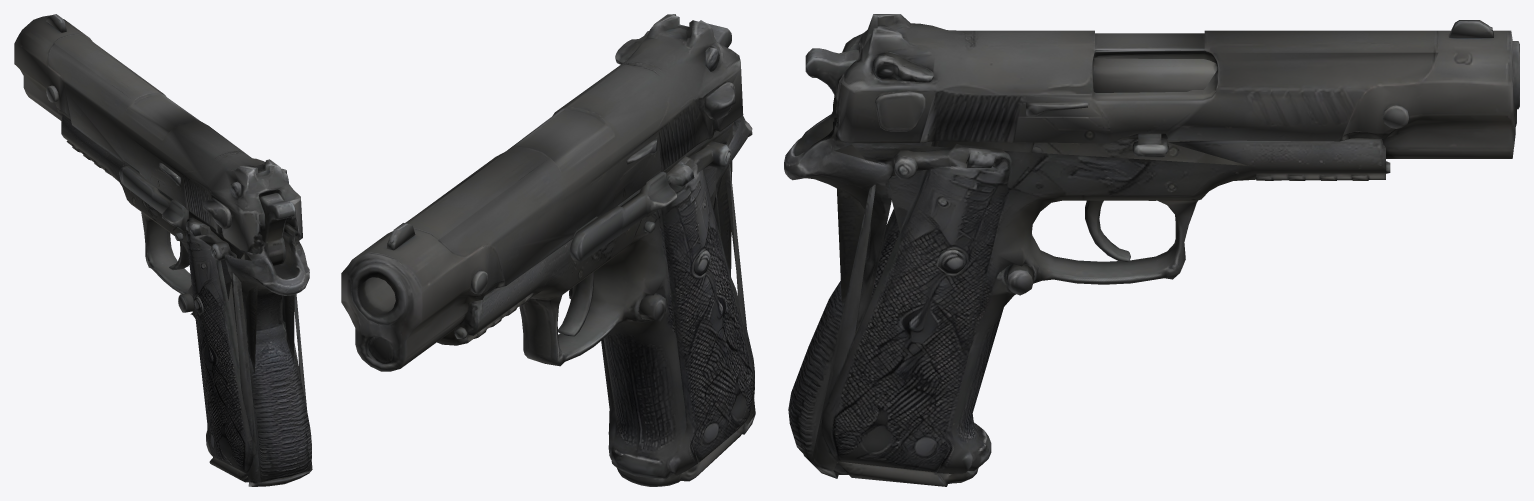
Rendered from desert-eagle.glb.
3 renders of one model, left to right at view 1: azimuth 30°, elevation 25°; view 2: azimuth 150°, elevation 25°; view 3: azimuth 270°, elevation 25°, orthographic. The views are drawn at different scales.
Parts seen in each view (by area): view 1: tripo_node_11270bd9-e969-4d9d-99f4-d341ca76b2ad; view 2: tripo_node_11270bd9-e969-4d9d-99f4-d341ca76b2ad; view 3: tripo_node_11270bd9-e969-4d9d-99f4-d341ca76b2ad.
Boxes of the visible parts, left/top/right/bottom form: tripo_node_11270bd9-e969-4d9d-99f4-d341ca76b2ad: left=14, top=14, right=312, bottom=486; tripo_node_11270bd9-e969-4d9d-99f4-d341ca76b2ad: left=341, top=14, right=755, bottom=486; tripo_node_11270bd9-e969-4d9d-99f4-d341ca76b2ad: left=784, top=14, right=1519, bottom=486.
Bounding box in the file's own units: 0.0619 × 0.22 × 0.3259.
1 material, 1 textured.
